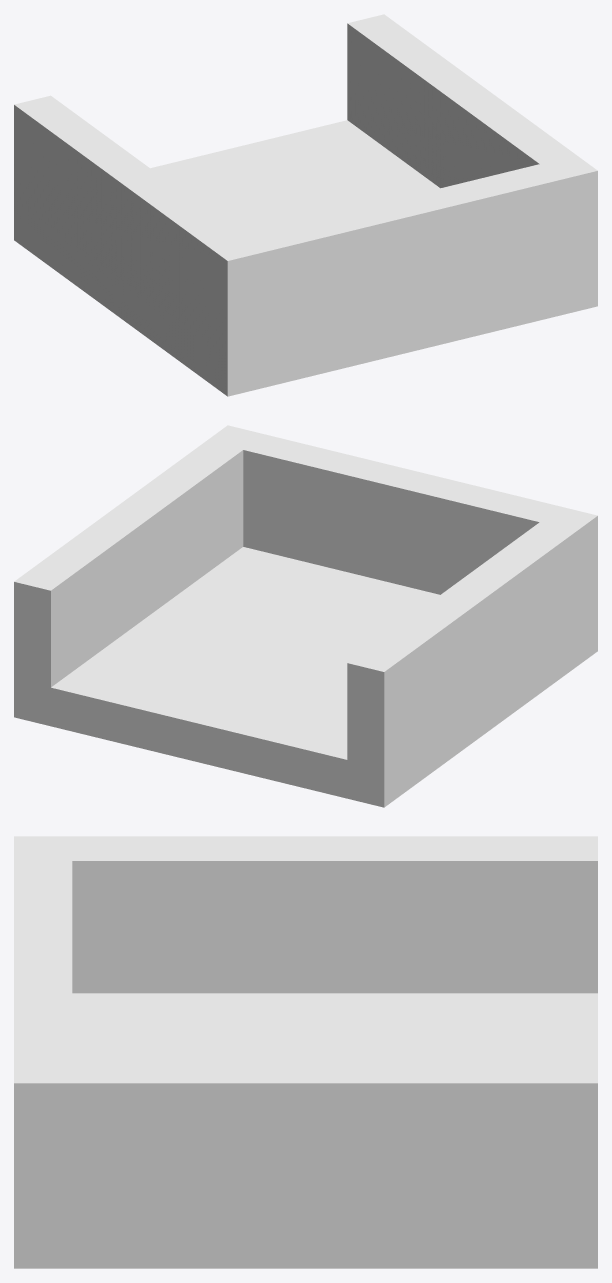
Rendered from WhiteRoof_3Edges_small.glb.
The picture shows the model from 3 angles, top to bottom: view 1: azimuth 30°, elevation 25°; view 2: azimuth 150°, elevation 25°; view 3: azimuth 270°, elevation 25°; orthographic projection. The views are drawn at different scales.
Visible parts, largest first — view 1: roof_flat_3Edges_small_white; view 2: roof_flat_3Edges_small_white; view 3: roof_flat_3Edges_small_white.
Part boxes in pixels (x1,y1,x2,y2): roof_flat_3Edges_small_white: (14,14,597,396); roof_flat_3Edges_small_white: (14,425,597,807); roof_flat_3Edges_small_white: (14,836,597,1268).
Size of what is drawn, in the model's own units: 2 by 0.7 by 2.
1 material, 1 textured.
